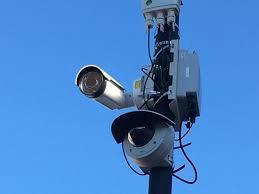Speed-Camera: (109, 107, 183, 171), (70, 61, 133, 112)
